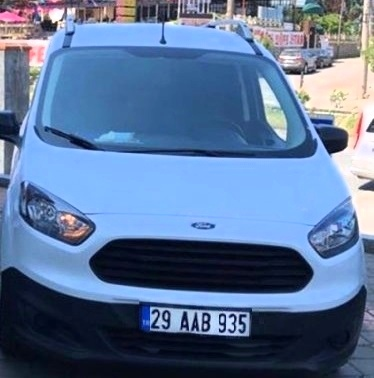plaka: (147, 306, 249, 338)
